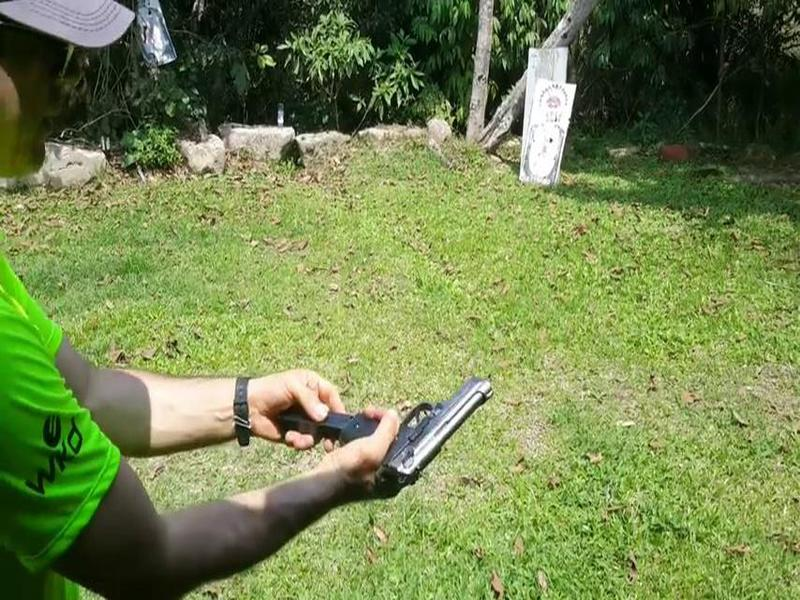Pistola: (348, 372, 502, 499)
